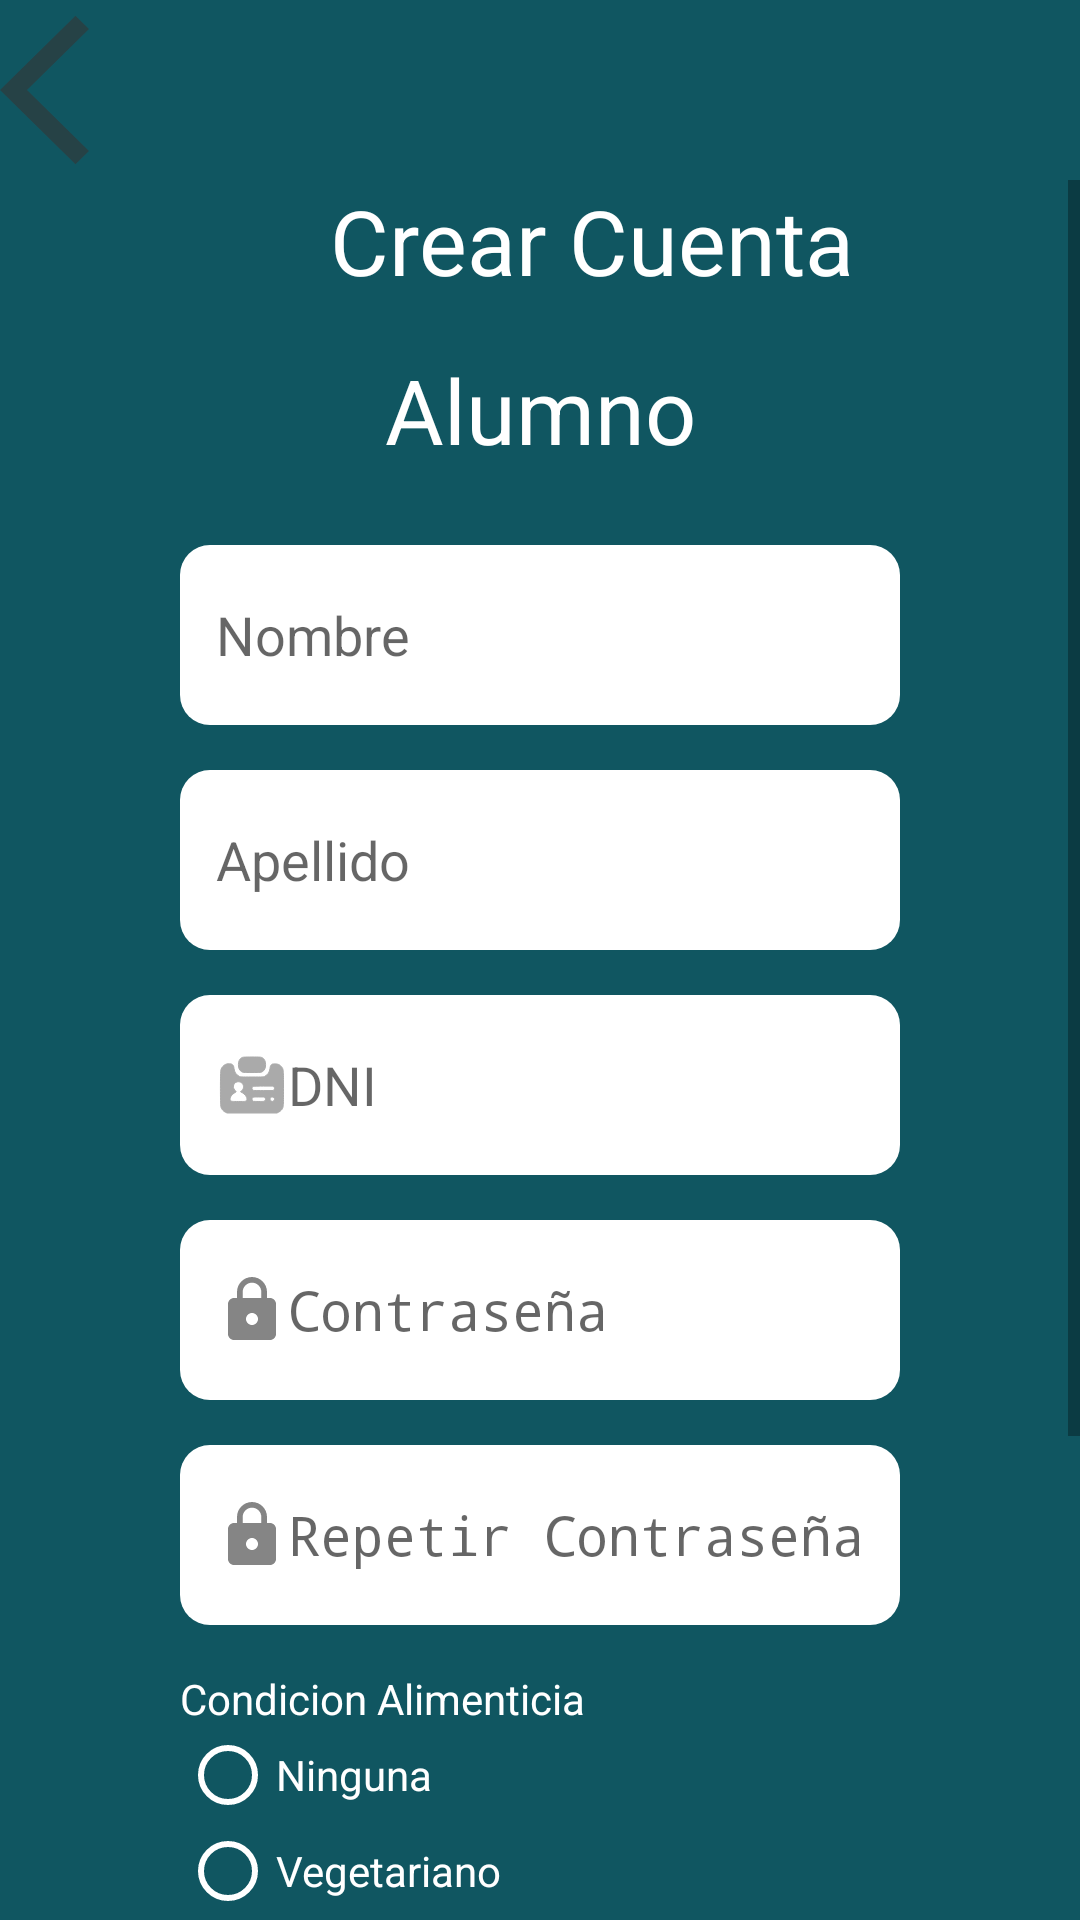

Point at icon controls on the screen. Image size 1080w x 1920h, points as (x=x, y=y).
arrow back: (x=44, y=90)
